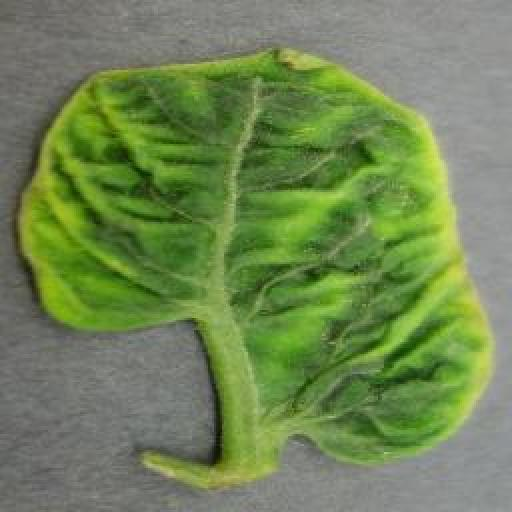disease_tomato: (15, 47, 494, 465)
